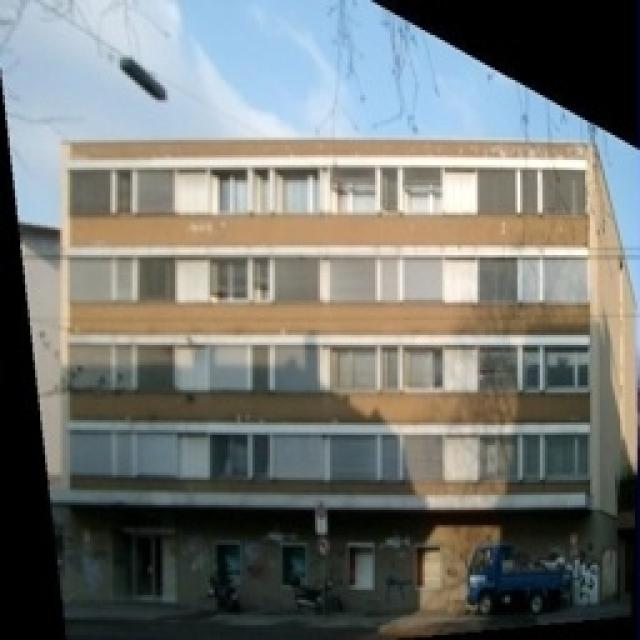building: (63, 100, 635, 640)
